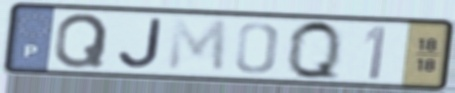0: (232, 20, 282, 75)
1: (362, 24, 388, 82)
J: (115, 16, 166, 71)
M: (165, 16, 230, 75)
Q: (286, 17, 344, 84), (51, 11, 112, 70)
